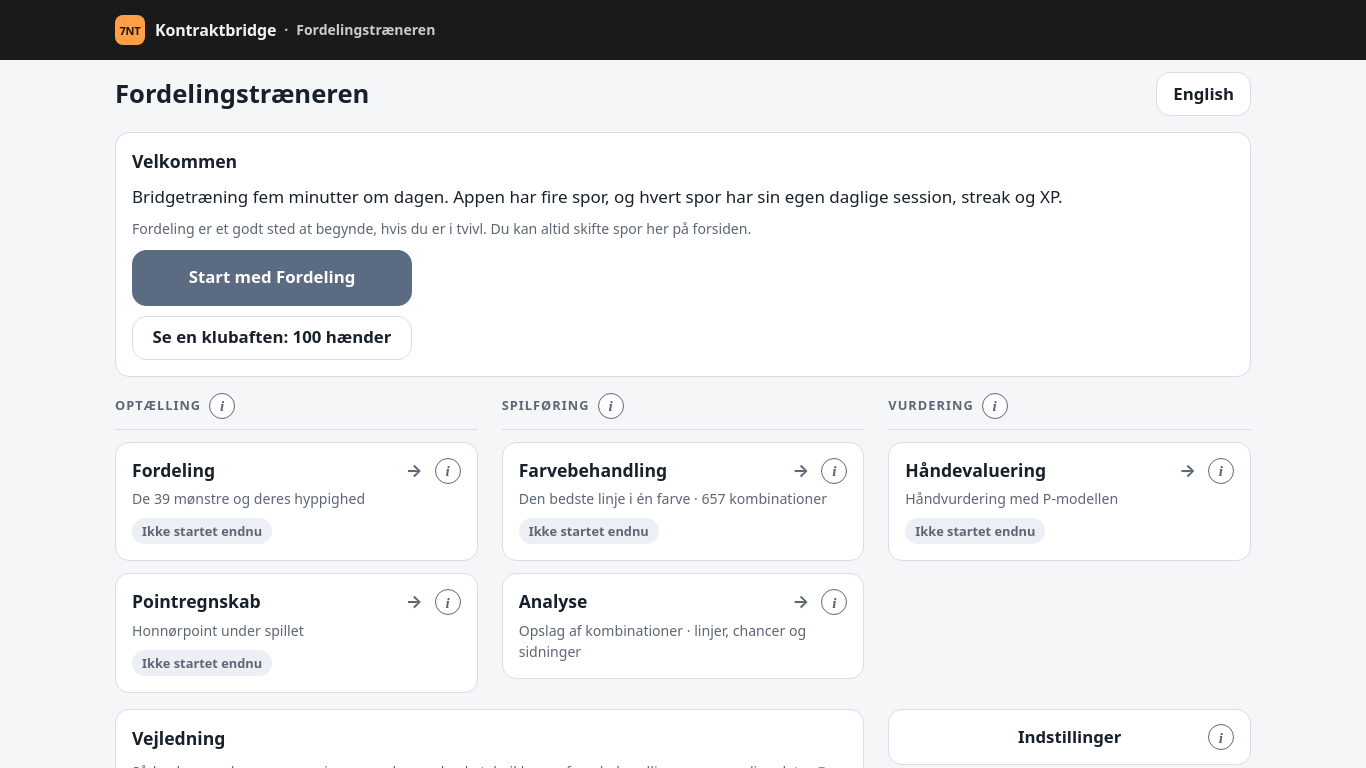
Test: App › viser klubaftenens 100 hænder og fremhæver et mønster
Step 1. Click the button "Fordeling" → click(296, 501), box x1=115 y1=442 x2=478 y2=561
(page scrolled)
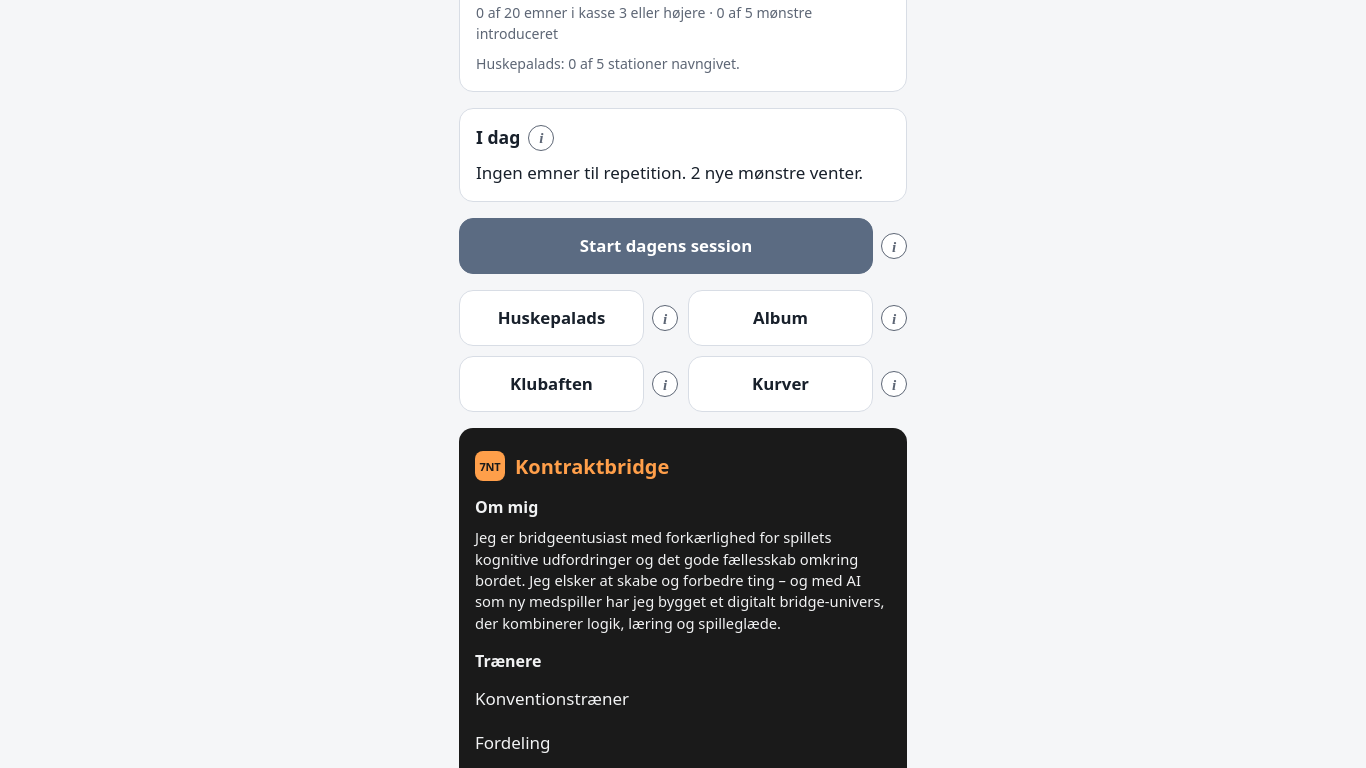
Step 2. Click the button "Klubaften" → click(552, 384), box x1=459 y1=356 x2=644 y2=412
(page scrolled)
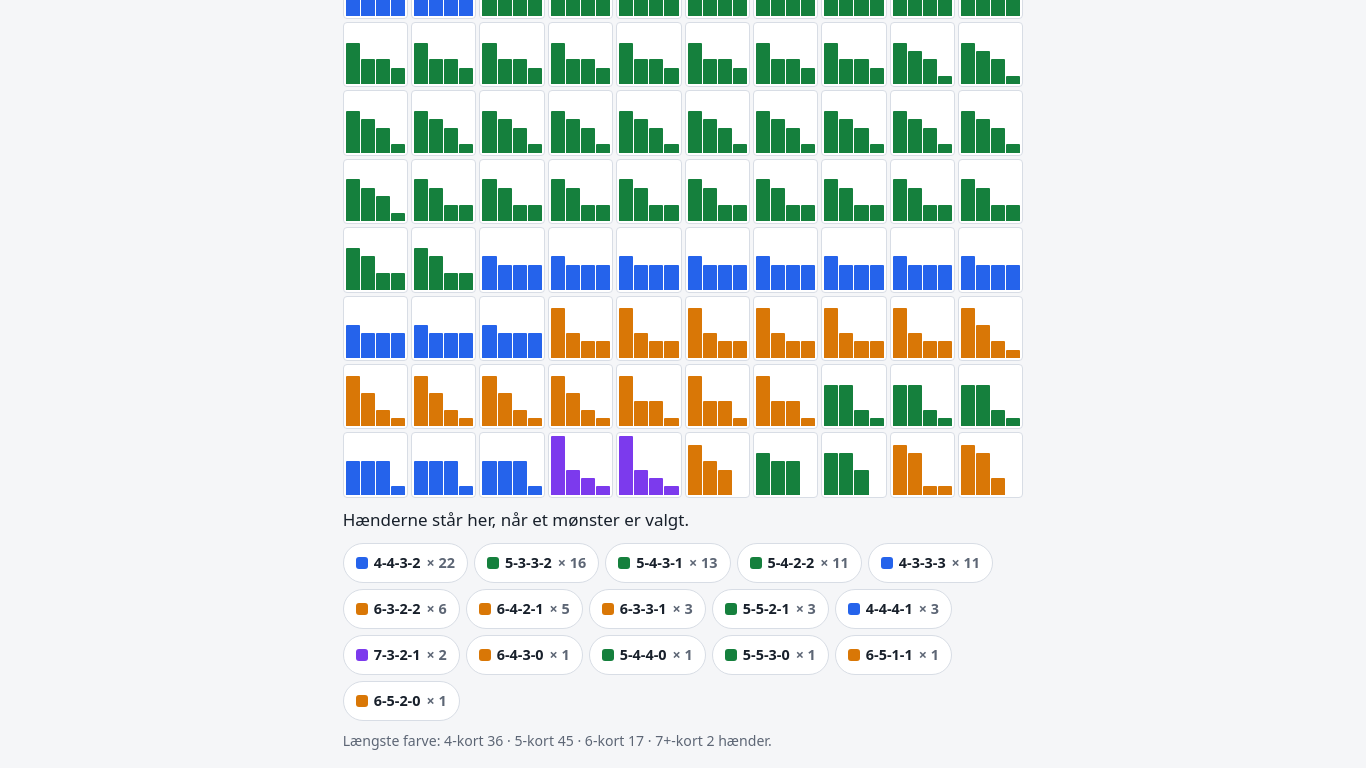
Step 3. Click the button "6-3-2-2 × 6" → click(401, 609), box x1=343 y1=589 x2=460 y2=629
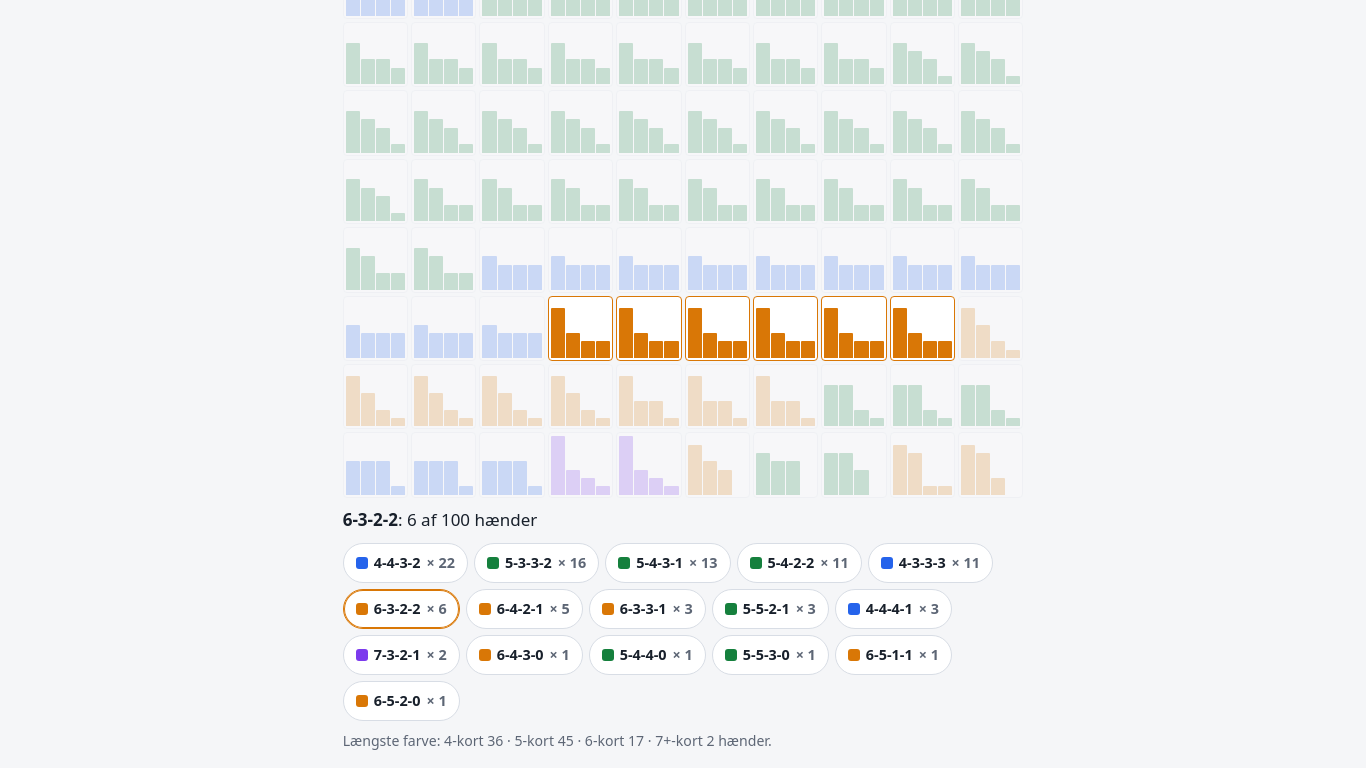
Check: the text "6-3-2-2: 6 af 100 hænder" is shown, box x1=343 y1=508 x2=537 y2=531
